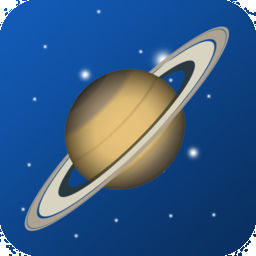planet: (20, 20, 235, 231)
